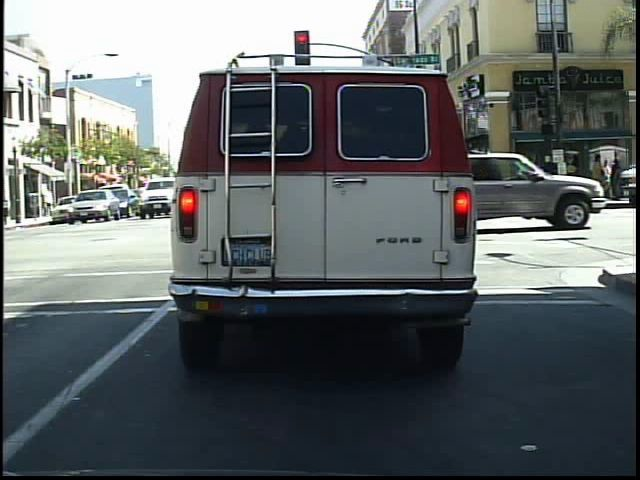person: (539, 151, 562, 209), (513, 156, 535, 207), (612, 150, 626, 203)
